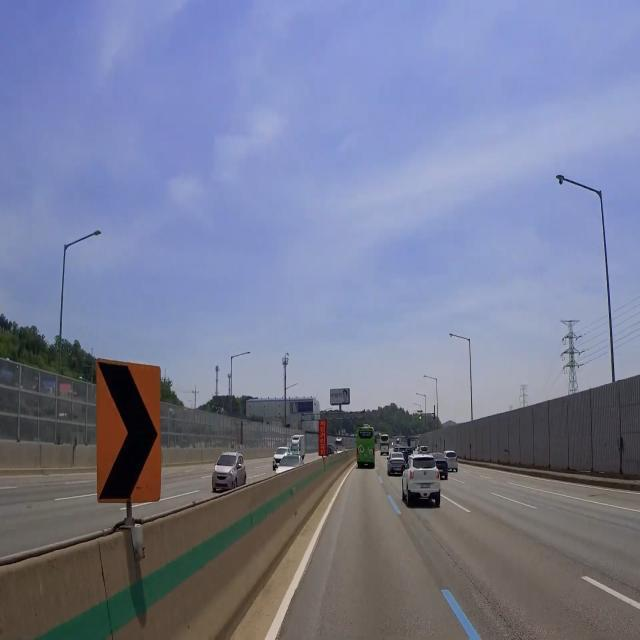car: (418, 479, 433, 492), (392, 466, 405, 477)
